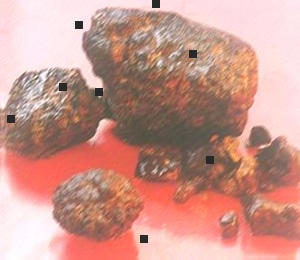halobolite: (80, 3, 259, 147), (1, 68, 86, 147), (227, 180, 300, 250), (55, 177, 128, 243), (134, 149, 183, 184)
